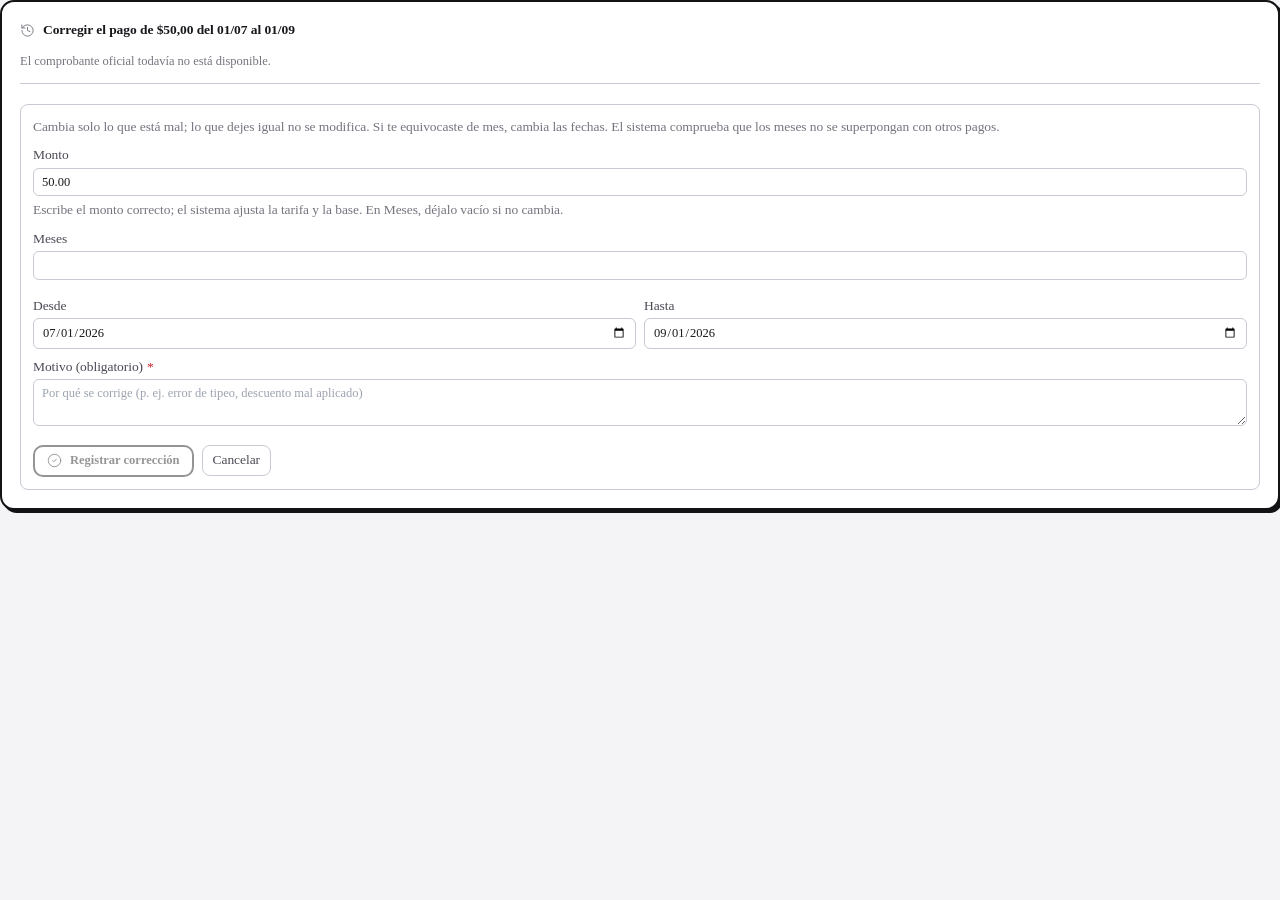
Test: PagoCorreccionSection — extended (amount, months, dates) › surfaces the backend's overlap / continuity message next to the form and keeps what was typed
Expected: the button "Registrar corrección" is shown, [33,444,194,476]
Step 1. Type "2026-12-01" into the date field labelled "Hasta" → (946, 333), box [644,318,1247,349]
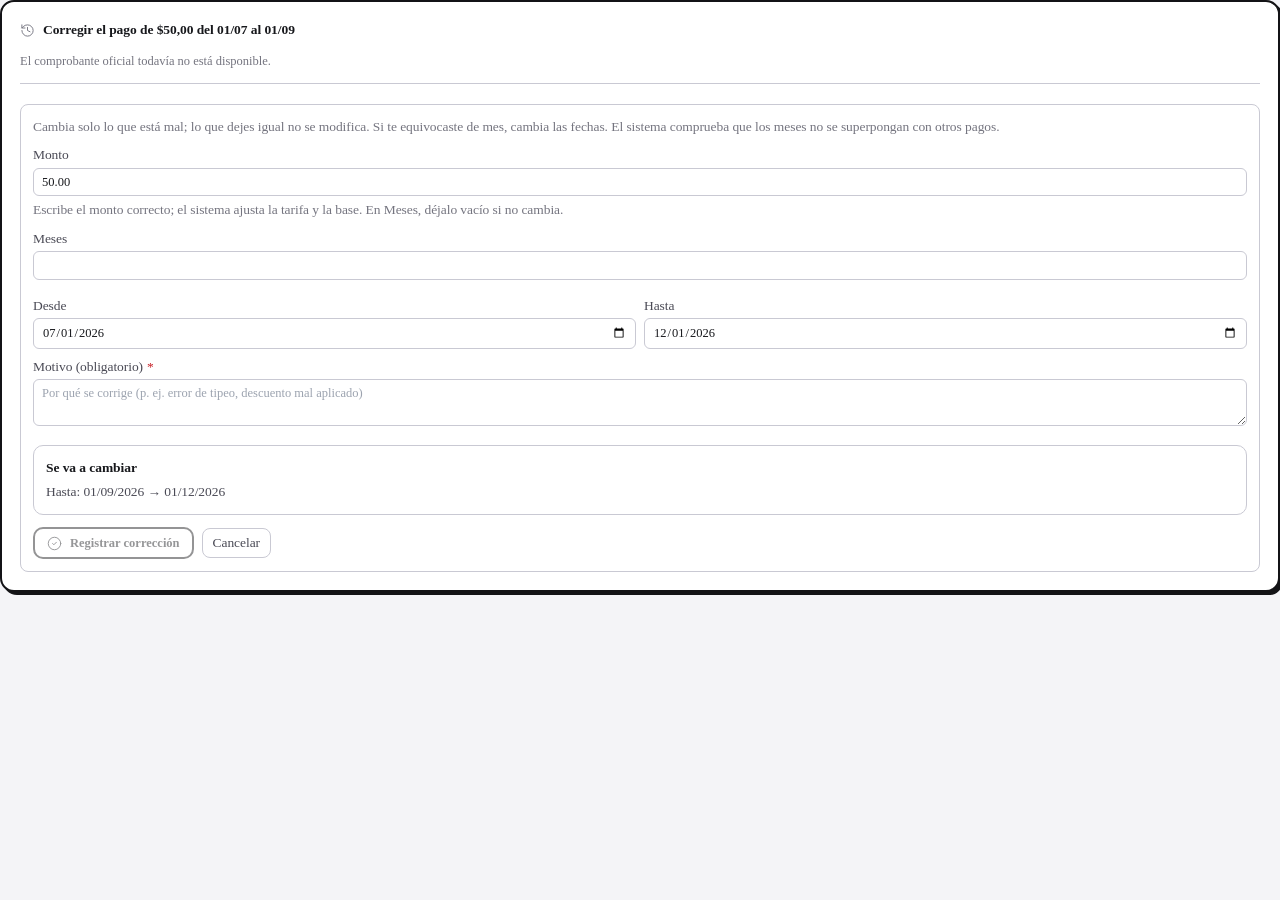
Step 2. Replace the text in the text box labelled "Motivo (obligatorio)*" with "Se extendió" → (640, 403), box [33,379,1247,426]
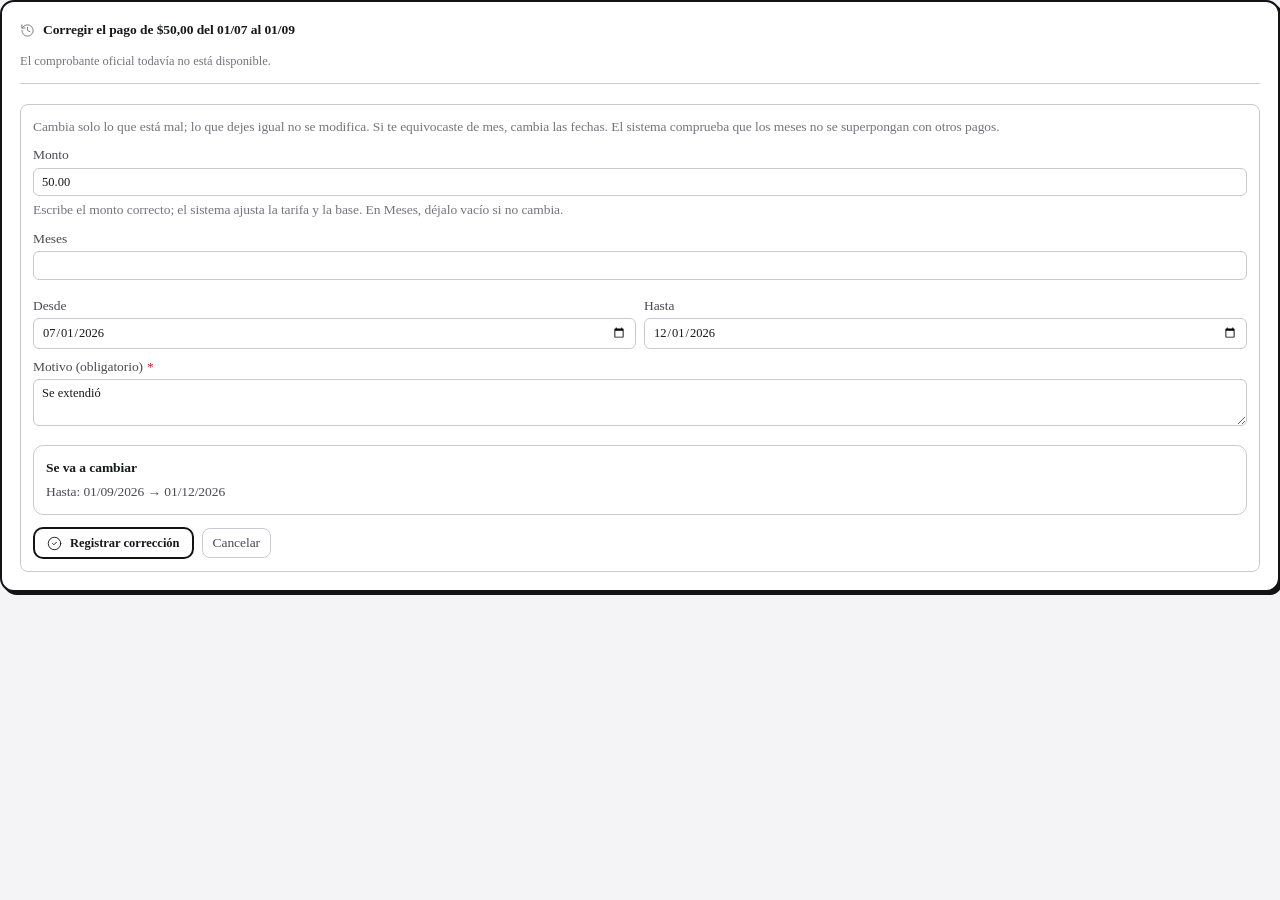
Step 3. Click the button "Registrar corrección" → (113, 543), box [33,527,194,559]
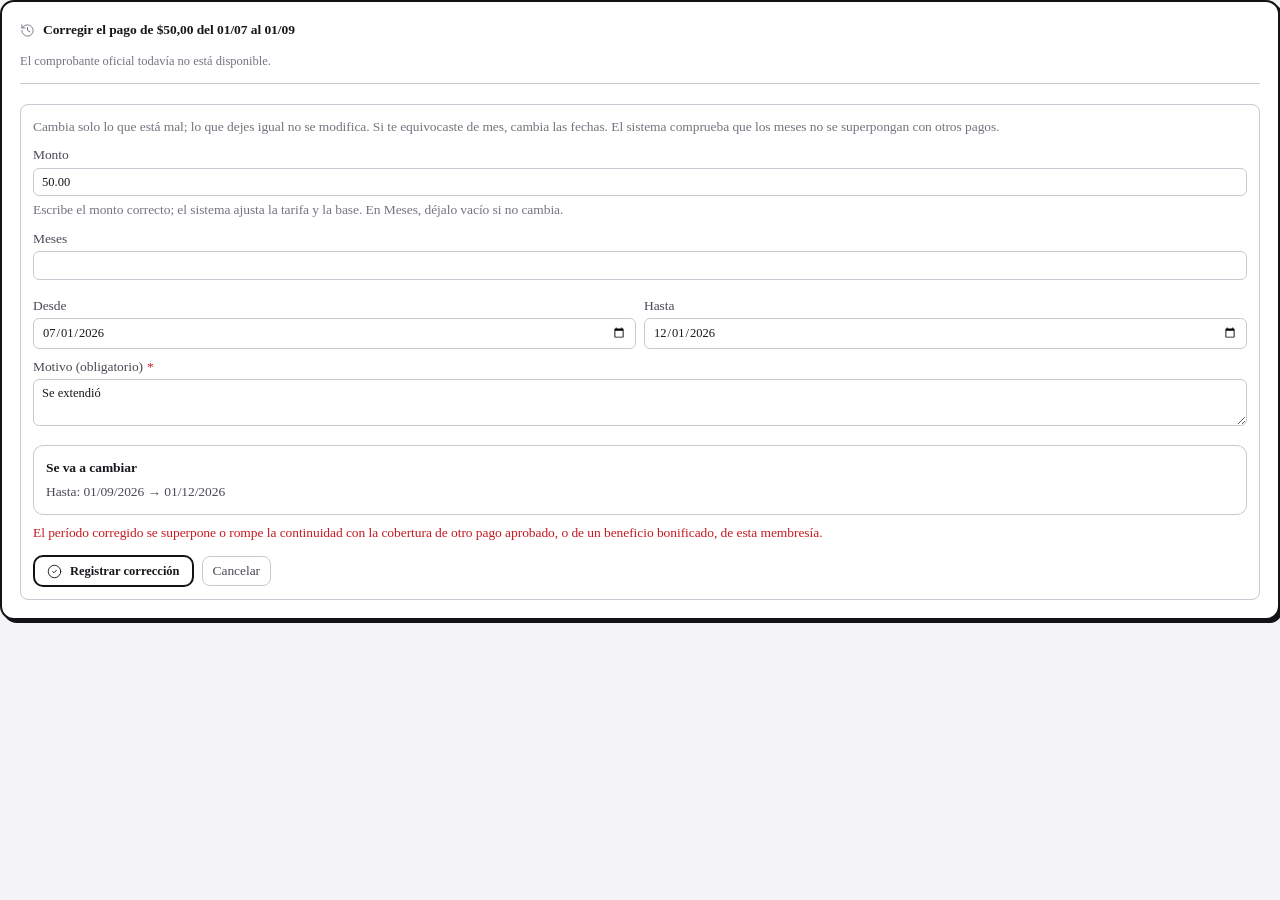
Result: the message shows "se superpone o rompe la continuidad" at [33,525,822,540]
